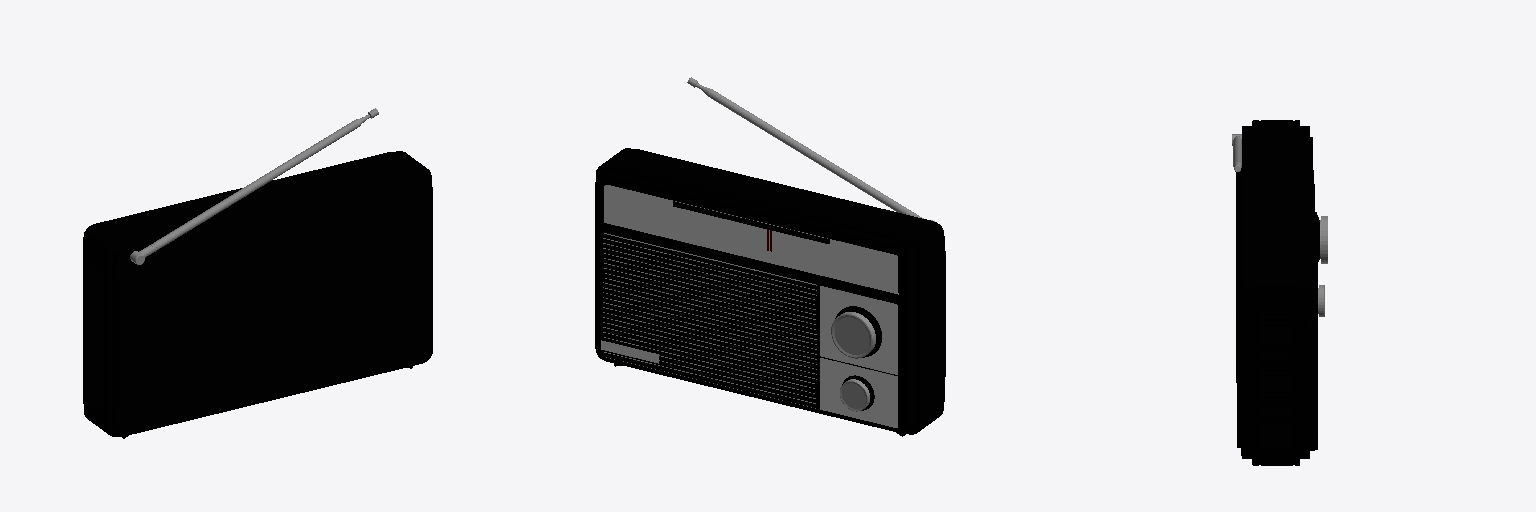
Rendered from Radio.obj.
3 renders of one model, left to right at view 1: azimuth 30°, elevation 25°; view 2: azimuth 150°, elevation 25°; view 3: azimuth 270°, elevation 25°, orthographic.
Visible parts, largest first — view 1: Cube.014, Cube.008, Antena.001, Cube.012; view 2: Cube.008, Cube.011, Cube.009, Cube.010, Cube.012, Antena.001, Cylinder.004, Cylinder.005, Plane.003, Plane.002; view 3: Cube.008, Cube.012, Cube.014, Cube.010, Cube.011, Cube.009.
Part boxes in pixels (left/top/right/bottom): Cube.014: left=124, top=221, right=427, bottom=426; Cube.008: left=83, top=151, right=432, bottom=436; Antena.001: left=139, top=108, right=378, bottom=257; Cube.012: left=86, top=262, right=103, bottom=413; Cube.008: left=595, top=148, right=945, bottom=434; Cube.011: left=602, top=233, right=818, bottom=408; Cube.009: left=604, top=183, right=899, bottom=294; Cube.010: left=603, top=231, right=899, bottom=427; Cube.012: left=923, top=260, right=940, bottom=411; Antena.001: left=687, top=77, right=923, bottom=218; Cylinder.004: left=831, top=306, right=881, bottom=358; Cylinder.005: left=840, top=375, right=874, bottom=411; Plane.003: left=673, top=201, right=829, bottom=243; Plane.002: left=601, top=340, right=658, bottom=363; Cube.008: left=1239, top=120, right=1309, bottom=465; Cube.012: left=1260, top=306, right=1293, bottom=446; Cube.014: left=1236, top=172, right=1240, bottom=447; Cube.010: left=1310, top=184, right=1314, bottom=450; Cube.011: left=1314, top=224, right=1317, bottom=449; Cube.009: left=1310, top=137, right=1312, bottom=318.
Size of the model in its own units: 3.57 by 2.91 by 0.9203.